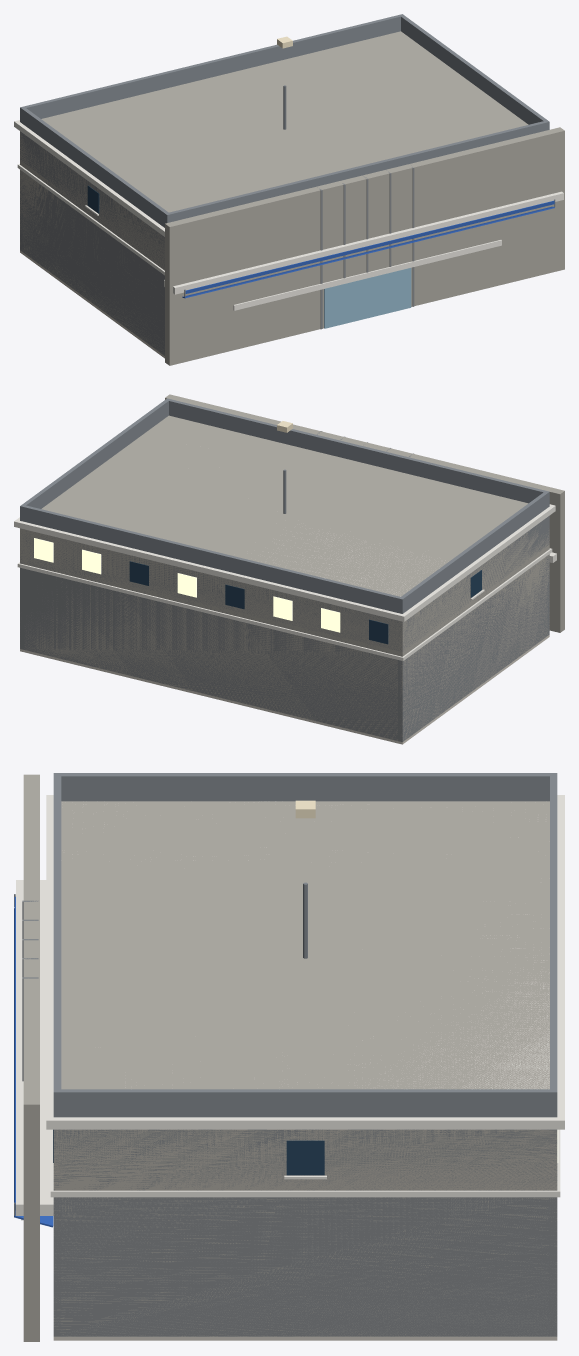
The model's file is BLD_PoliceStation.fbx.
3 renders of one model, top to bottom at view 1: azimuth 30°, elevation 25°; view 2: azimuth 150°, elevation 25°; view 3: azimuth 270°, elevation 25°, orthographic. The views are drawn at different scales.
Visible parts, largest first — view 1: BLD_PoliceStation__COL_Upper, BLD_PoliceStation__COL_Portico, BLD_PoliceStation__UPPER, BLD_PoliceStation__BODY, BLD_PoliceStation__COL_Main; view 2: BLD_PoliceStation__COL_Upper, BLD_PoliceStation__BODY, BLD_PoliceStation__UPPER, BLD_PoliceStation__COL_Main, BLD_PoliceStation__COL_Portico; view 3: BLD_PoliceStation__COL_Upper, BLD_PoliceStation__BODY, BLD_PoliceStation__UPPER, BLD_PoliceStation__COL_Main, BLD_PoliceStation__COL_Portico.
Part boxes in pixels (x1,y1,x2,y2): BLD_PoliceStation__COL_Upper: [20, 31, 528, 270]; BLD_PoliceStation__COL_Portico: [165, 127, 564, 365]; BLD_PoliceStation__UPPER: [14, 14, 549, 329]; BLD_PoliceStation__BODY: [17, 160, 563, 358]; BLD_PoliceStation__COL_Main: [20, 160, 164, 355]; BLD_PoliceStation__COL_Upper: [20, 415, 549, 653]; BLD_PoliceStation__BODY: [17, 545, 556, 744]; BLD_PoliceStation__UPPER: [14, 398, 555, 655]; BLD_PoliceStation__COL_Main: [20, 545, 549, 740]; BLD_PoliceStation__COL_Portico: [165, 394, 564, 632]; BLD_PoliceStation__COL_Upper: [53, 801, 557, 1190]; BLD_PoliceStation__BODY: [14, 880, 560, 1340]; BLD_PoliceStation__UPPER: [21, 773, 564, 1220]; BLD_PoliceStation__COL_Main: [53, 1182, 557, 1336]; BLD_PoliceStation__COL_Portico: [23, 774, 39, 1341].
Bounding box in the file's own units: 31 × 16.48 × 21.88.
